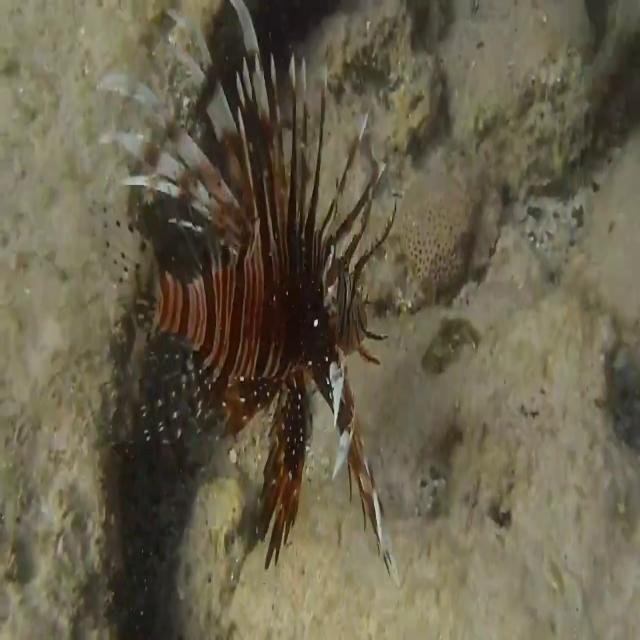Aslan Baligi: (111, 6, 403, 588)
